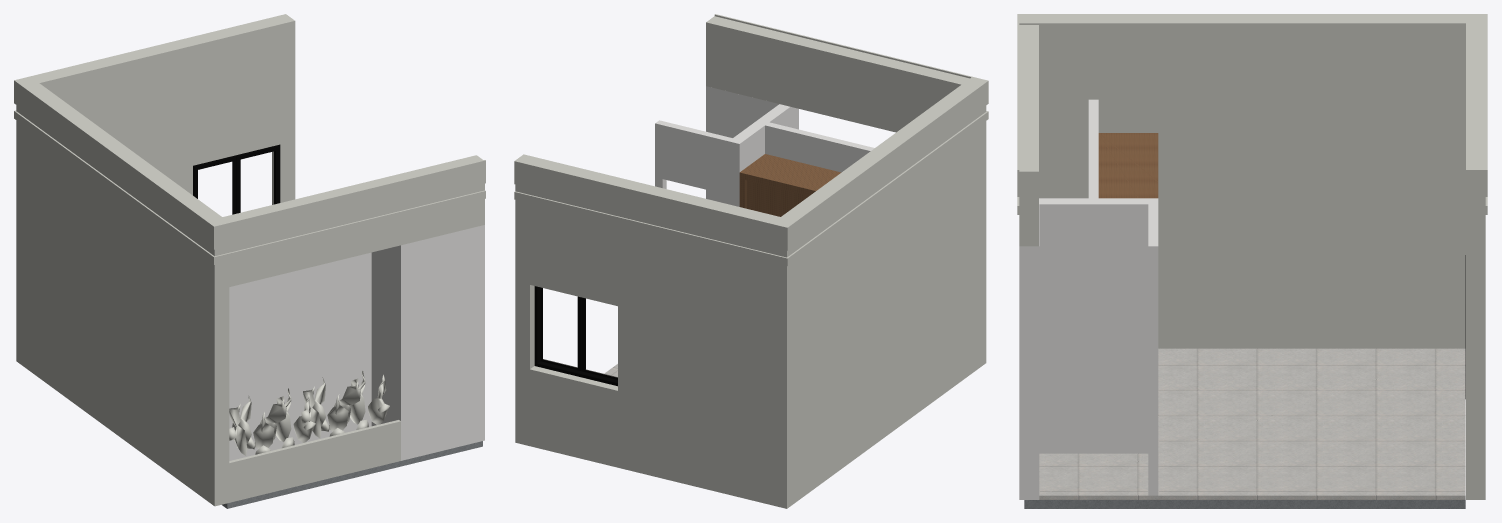
File: DESCANSO.glb
The picture shows the model from 3 angles, left to right: view 1: azimuth 30°, elevation 25°; view 2: azimuth 150°, elevation 25°; view 3: azimuth 270°, elevation 25°; orthographic projection. The views are drawn at different scales.
Parts seen in each view (by area): view 1: Diferencia (×2), group_2, Dormant_haut_2; view 2: Diferencia (×2), group_3, Dormant_haut_2; view 3: Diferencia (×2), group_4, group_3, group_2.
Part boxes in pixels (box(x1,y1,x2,y2)): Diferencia (×2): box(14, 14, 485, 506); group_2: box(222, 441, 482, 508); Dormant_haut_2: box(193, 144, 279, 214); Diferencia (×2): box(514, 14, 988, 508); group_3: box(739, 154, 841, 216); Dormant_haut_2: box(534, 286, 617, 386); Diferencia (×2): box(1017, 14, 1487, 499); group_4: box(1039, 348, 1465, 499); group_3: box(1098, 133, 1158, 198); group_2: box(1024, 500, 1465, 508).
Size of what is drawn, in the model's own units: 3.72 by 3.77 by 4.74.
Materials: 8 (3 with a texture image).
